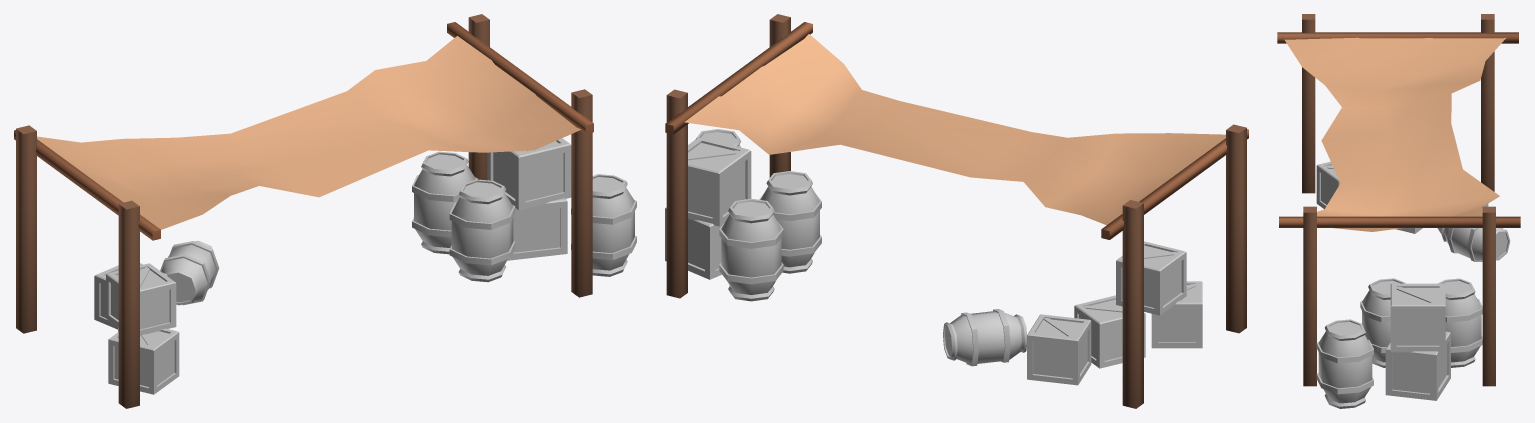
The model's file is tent1.fbx.
3 views of the same model, side by side, from view 1: azimuth 30°, elevation 25°; view 2: azimuth 150°, elevation 25°; view 3: azimuth 270°, elevation 25° (orthographic). The views are drawn at different scales.
Visible parts, largest first — view 1: tent1; view 2: tent1; view 3: tent1.
Part boxes in pixels (box(x1,y1,x2,y2)): tent1: box(14, 14, 636, 408); tent1: box(665, 14, 1248, 408); tent1: box(1277, 14, 1520, 408).
Bounding box in the file's own units: 1511 × 544 × 688.
